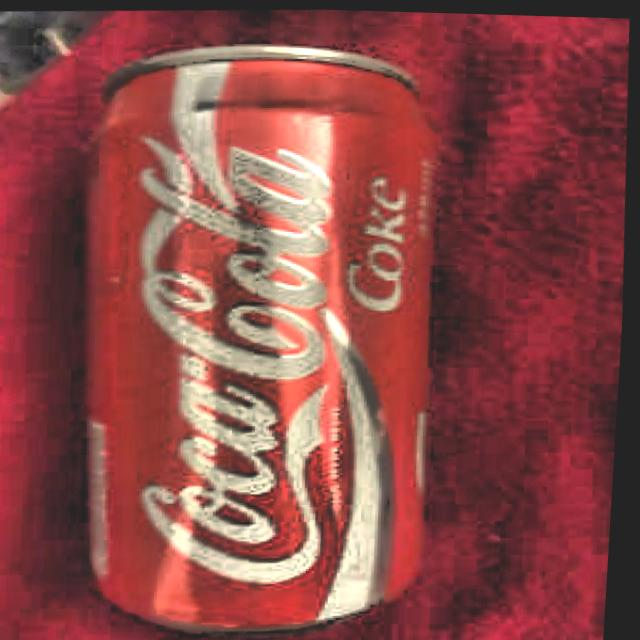Cans: (69, 33, 469, 638)
